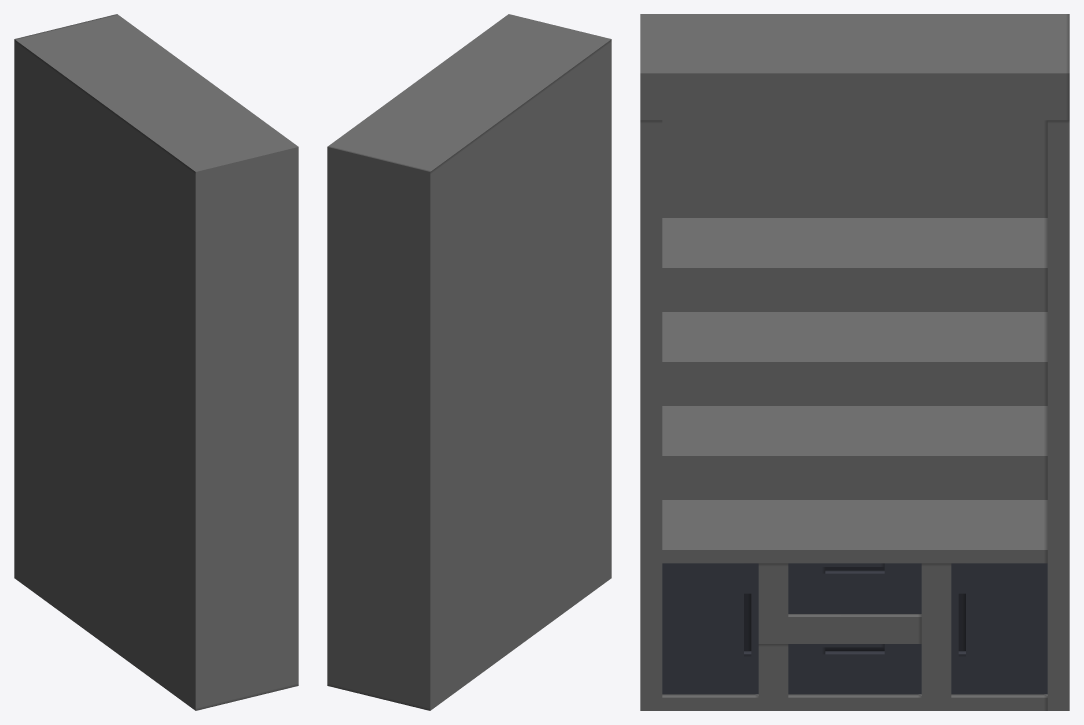
The model's file is puka na ksiazki.dae.
The picture shows the model from 3 angles, left to right: view 1: azimuth 30°, elevation 25°; view 2: azimuth 150°, elevation 25°; view 3: azimuth 270°, elevation 25°; orthographic projection. The views are drawn at different scales.
Visible parts, largest first — view 1: Content; view 2: Content; view 3: Content.
Boxes of the visible parts, <box> form: Content: <box>14,14,298,710</box>; Content: <box>327,14,611,710</box>; Content: <box>640,14,1069,710</box>.
Bounding box in the file's own units: 19 × 95 × 58.
Materials: 1 (1 with a texture image).
